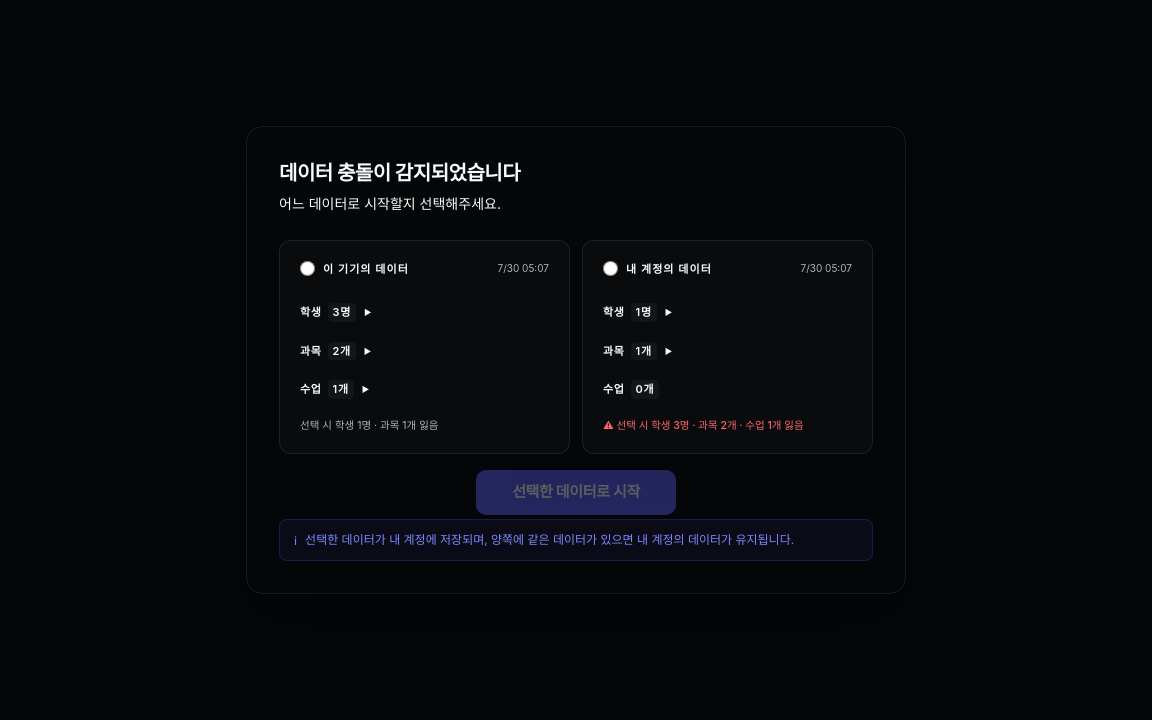
Test: DataConflictModal › 서버 카드에 서버 학생 이름이 렌더된다 (접기/펼치기)
The image size is (1152, 720).
Note: 서버 카드의 학생 섹션 펼치기
Click the text "1명".
click(644, 312)  # box top-left (631, 303), bottom-right (657, 322)
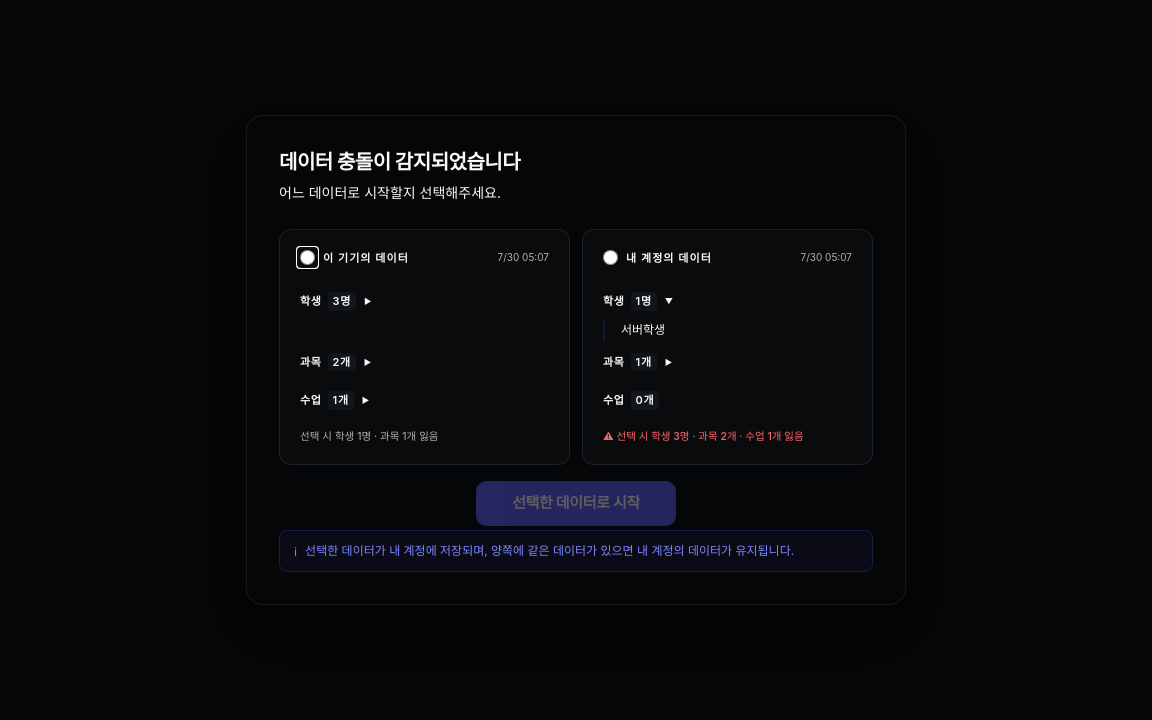
Now the text "서버학생" is shown, box top-left (621, 322), bottom-right (665, 338)
